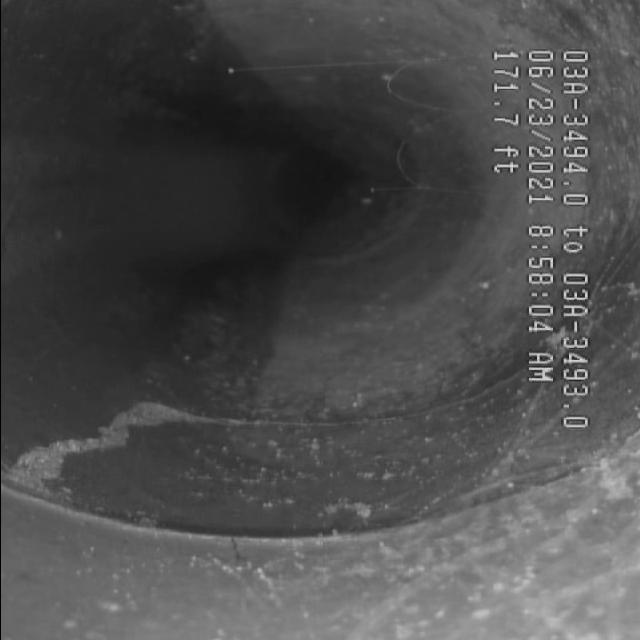Crack: (38, 379, 391, 481)
